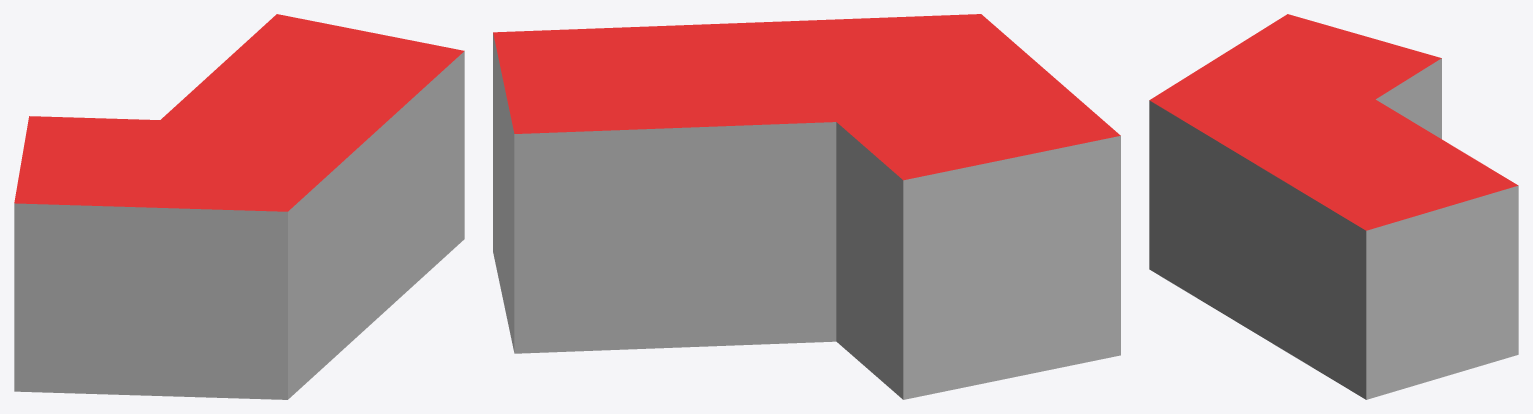
Rendered from ID_8cb07599-89b3-4a22-aeef-d9e94e638063.dae.
The picture shows the model from 3 angles, left to right: view 1: azimuth 30°, elevation 25°; view 2: azimuth 150°, elevation 25°; view 3: azimuth 270°, elevation 25°; orthographic projection. The views are drawn at different scales.
Size of the model in its own units: 35.81 by 25.78 by 13.03.
